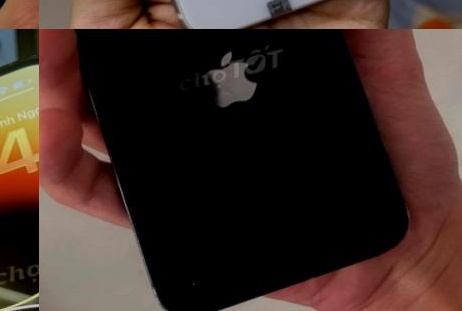scratch: (164, 241, 242, 302)
